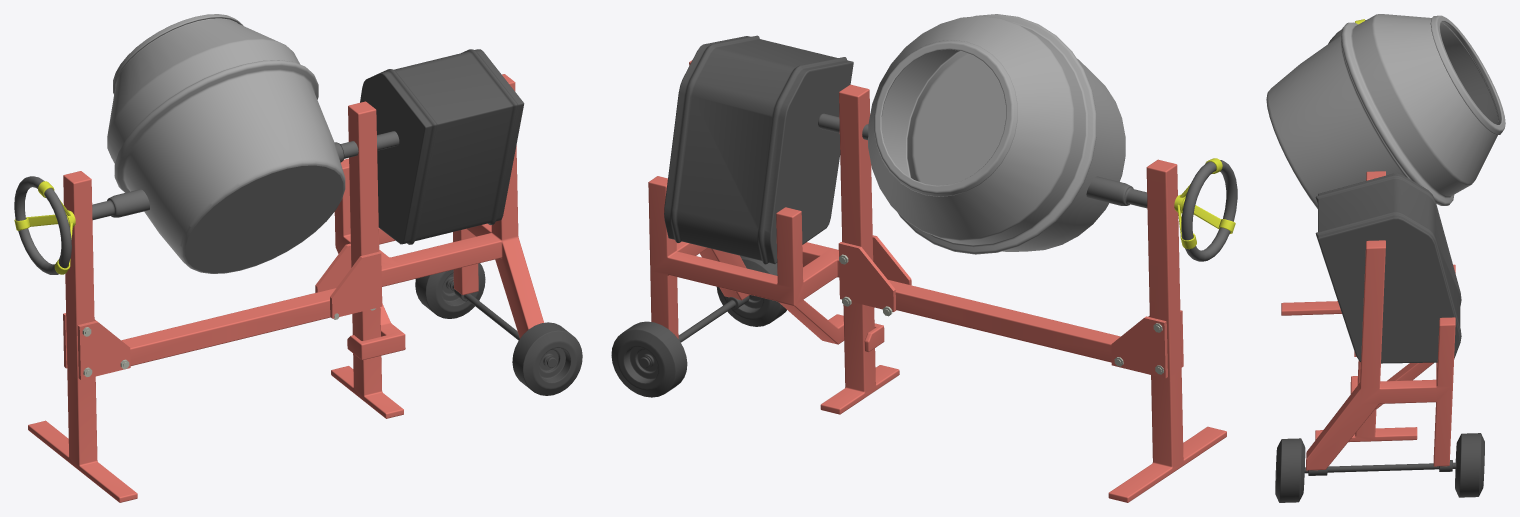
File: ConcreteMixer.fbx
The picture shows the model from 3 angles, left to right: view 1: azimuth 30°, elevation 25°; view 2: azimuth 150°, elevation 25°; view 3: azimuth 270°, elevation 25°; orthographic projection. The views are drawn at different scales.
Visible parts, largest first — view 1: ConcreteMixer, Cube.158, Cube.003, Cylinder.090, Plane.053, Circle.000, Cylinder.088, Cylinder.089; view 2: ConcreteMixer, Cube.158, Cube.003, Cylinder.090, Plane.053, Circle.000, Cylinder.088, Cylinder.089; view 3: ConcreteMixer, Cube.003, Cube.158, Cylinder.090.
Boxes of the visible parts, bbox=[...] form: ConcreteMixer: bbox=[107, 14, 345, 273]; Cube.158: bbox=[28, 74, 543, 502]; Cube.003: bbox=[360, 49, 524, 244]; Cylinder.090: bbox=[415, 263, 582, 395]; Plane.053: bbox=[63, 243, 382, 379]; Circle.000: bbox=[14, 176, 71, 274]; Cylinder.088: bbox=[92, 131, 399, 219]; Cylinder.089: bbox=[14, 181, 75, 274]; ConcreteMixer: bbox=[868, 14, 1125, 254]; Cube.158: bbox=[648, 60, 1226, 502]; Cube.003: bbox=[664, 35, 853, 264]; Cylinder.090: bbox=[611, 255, 786, 397]; Plane.053: bbox=[838, 235, 1183, 378]; Circle.000: bbox=[1181, 160, 1237, 261]; Cylinder.088: bbox=[818, 113, 1147, 208]; Cylinder.089: bbox=[1174, 158, 1235, 249]; ConcreteMixer: bbox=[1266, 14, 1505, 208]; Cube.003: bbox=[1315, 173, 1461, 363]; Cube.158: bbox=[1281, 171, 1455, 470]; Cylinder.090: bbox=[1275, 433, 1484, 502].
Bounding box in the file's own units: 582 × 430 × 261.
